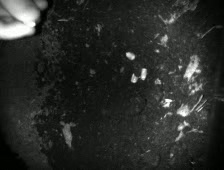corn: (138, 65, 150, 83), (21, 18, 39, 29), (122, 50, 138, 62), (129, 71, 139, 86)
